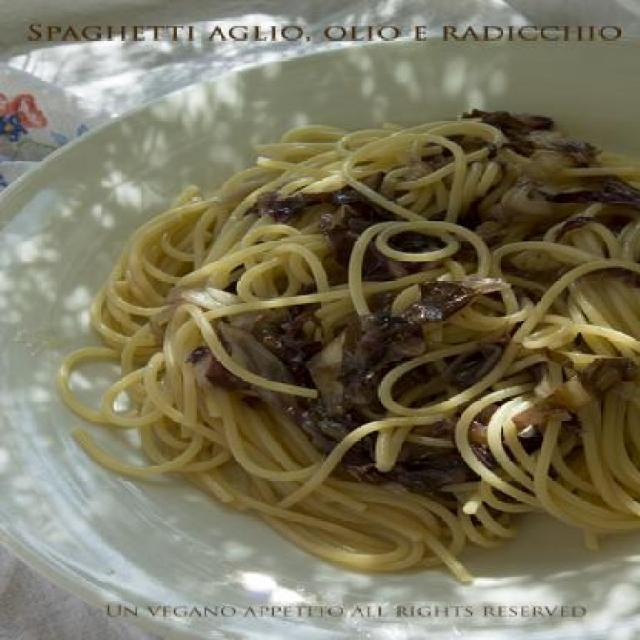Oil pasta: (121, 132, 638, 620)
